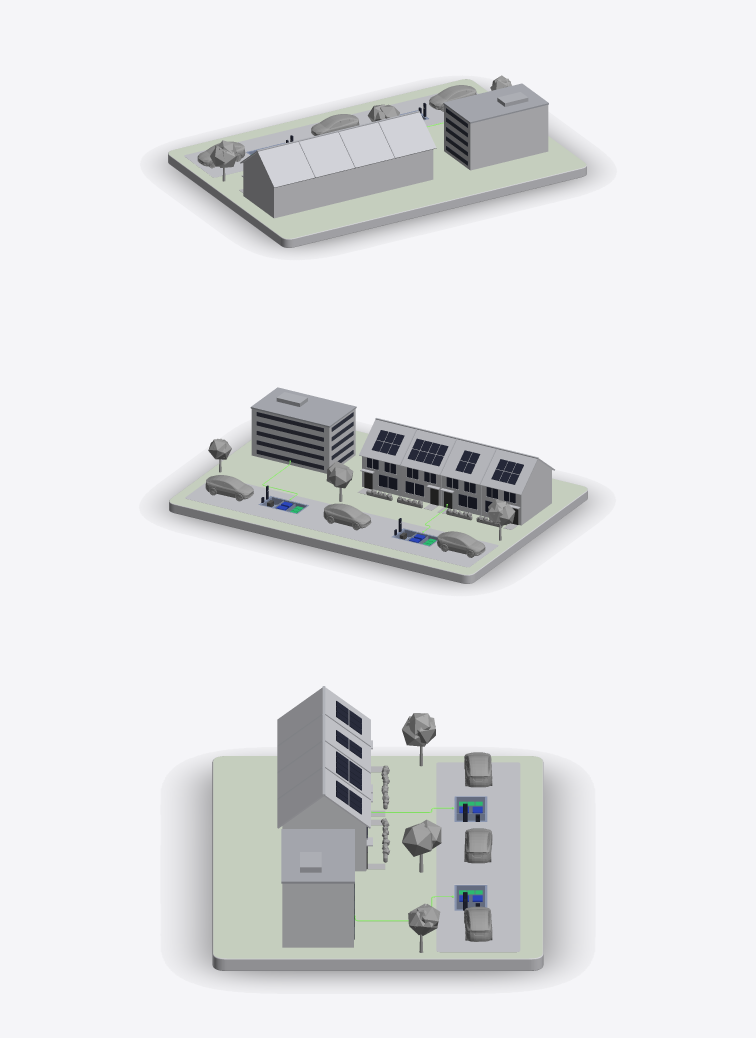
The model's file is sett-scroll-gemeente-nieuwbouw.glb.
3 views of the same model, one above another, from view 1: azimuth 30°, elevation 25°; view 2: azimuth 150°, elevation 25°; view 3: azimuth 270°, elevation 25° (orthographic). The views are drawn at different scales.
Visible parts, largest first — view 1: object 73, house, building, contact_shadow, object 74, car (×2); view 2: object 73, house, building, object 74, contact_shadow, car (×3); view 3: object 73, house, object 74, contact_shadow, building, car (×3), object 88.
Part boxes in pixels (left/top/right/bottom): object 73: left=168, top=79, right=586, bottom=247; house: left=239, top=110, right=436, bottom=218; building: left=443, top=83, right=548, bottom=170; contact_shadow: left=164, top=90, right=591, bottom=249; object 74: left=184, top=92, right=477, bottom=177; car (×2): left=311, top=85, right=476, bottom=135; object 73: left=169, top=430, right=587, bottom=583; house: left=358, top=418, right=554, bottom=529; building: left=250, top=387, right=356, bottom=473; object 74: left=185, top=482, right=498, bottom=567; contact_shadow: left=164, top=435, right=591, bottom=585; car (×3): left=205, top=475, right=485, bottom=557; object 73: left=212, top=756, right=543, bottom=970; house: left=277, top=686, right=389, bottom=871; object 74: left=436, top=762, right=520, bottom=952; contact_shadow: left=191, top=770, right=564, bottom=980; building: left=281, top=829, right=354, bottom=947; car (×3): left=464, top=752, right=492, bottom=941; object 88: left=402, top=822, right=432, bottom=856.
Size of the model in its own units: 4863 by 666 by 4863.
34 materials, 1 textured.
